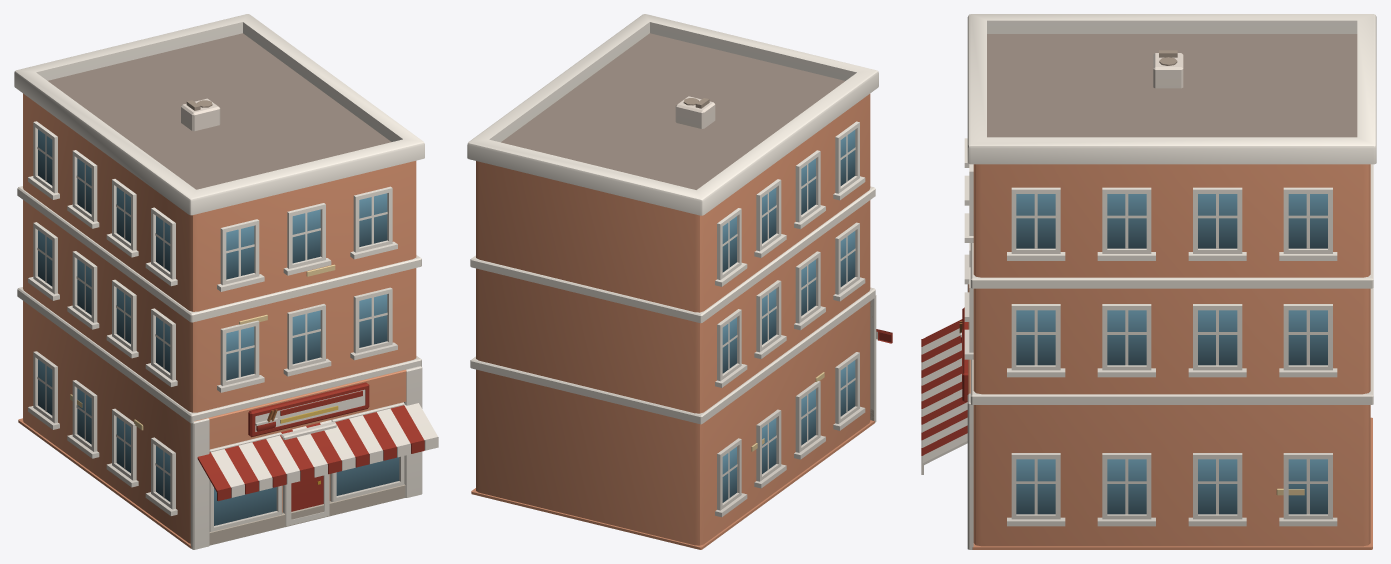
The model's file is tremont_e3.glb.
The picture shows the model from 3 angles, left to right: view 1: azimuth 30°, elevation 25°; view 2: azimuth 150°, elevation 25°; view 3: azimuth 270°, elevation 25°; orthographic projection. The views are drawn at different scales.
Visible parts, largest first — view 1: tremont_e3; view 2: tremont_e3; view 3: tremont_e3.
Part boxes in pixels (x1,y1,x2,y2): tremont_e3: (14,14,438,549); tremont_e3: (467,14,892,549); tremont_e3: (921,14,1376,549).
Size of the model in its own units: 8.48 by 12.19 by 12.05.
1 material, 1 textured.
